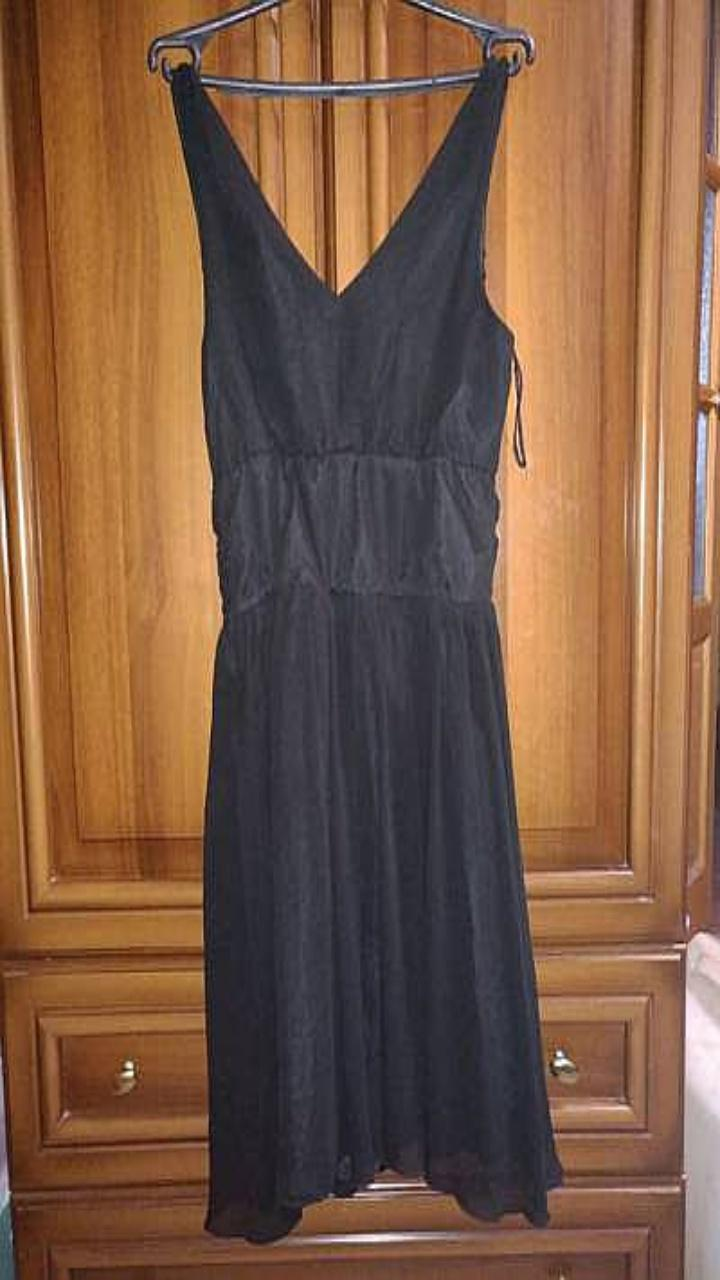Dresses: (172, 56, 562, 1242)
